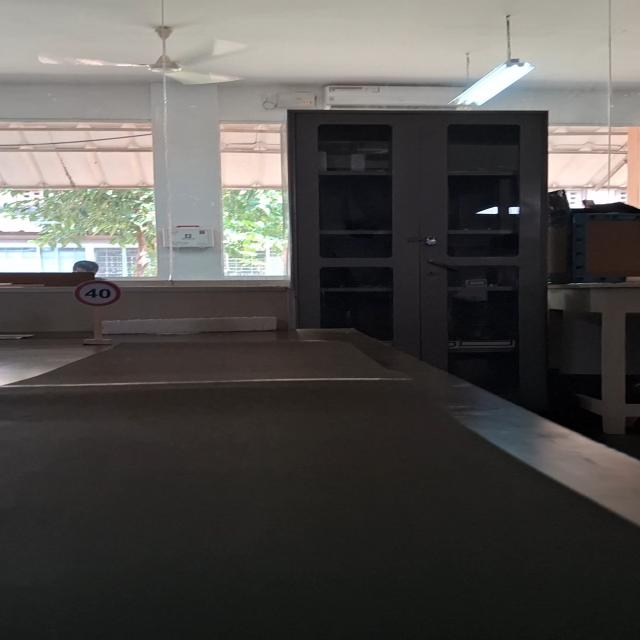Speed40: (72, 278, 122, 308)
